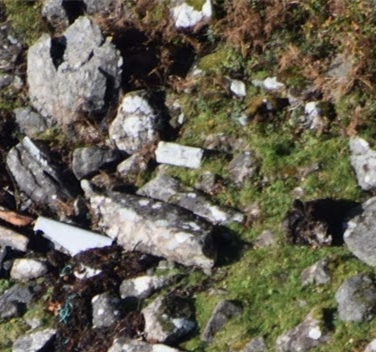cuboid: (31, 212, 117, 261), (149, 133, 207, 172)
together_barrel: (40, 261, 104, 325)
